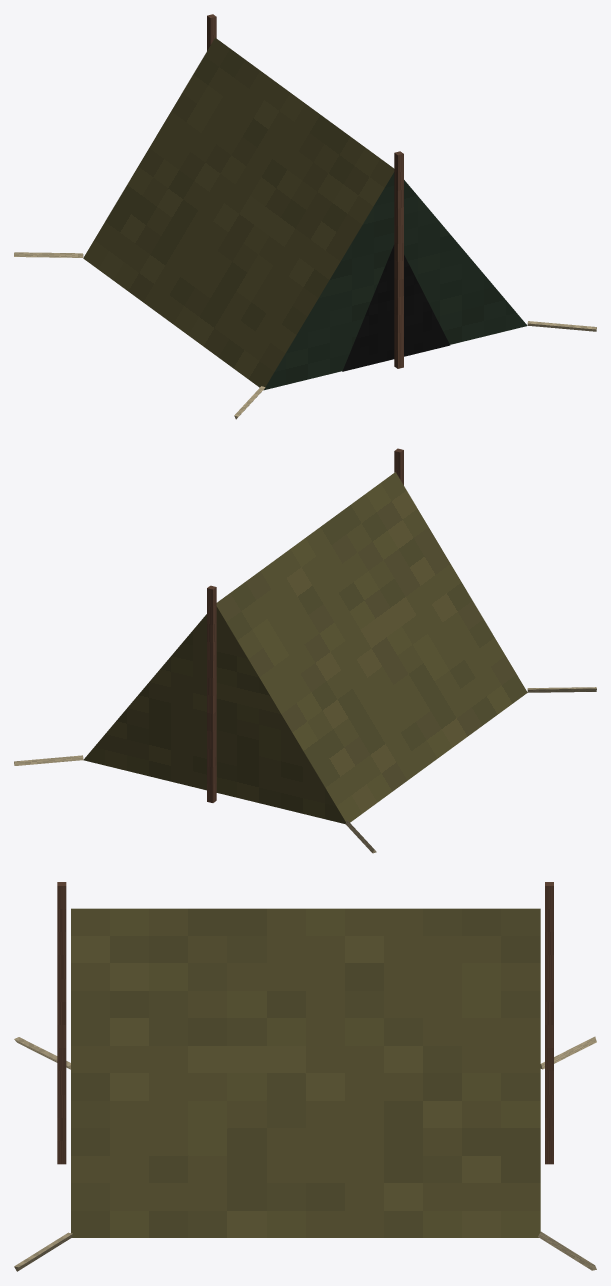
Rendered from tent.glb.
3 renders of one model, top to bottom at view 1: azimuth 30°, elevation 25°; view 2: azimuth 150°, elevation 25°; view 3: azimuth 270°, elevation 25°, orthographic. The views are drawn at different scales.
Parts seen in each view (by area): view 1: tent; view 2: tent; view 3: tent.
Boxes of the visible parts, x1,y1,x2,y2 form: tent: [14, 14, 596, 419]; tent: [14, 448, 596, 853]; tent: [14, 882, 596, 1271].
Size of the model in its own units: 3.02 by 1.7 by 3.23.
1 material, 1 textured.
